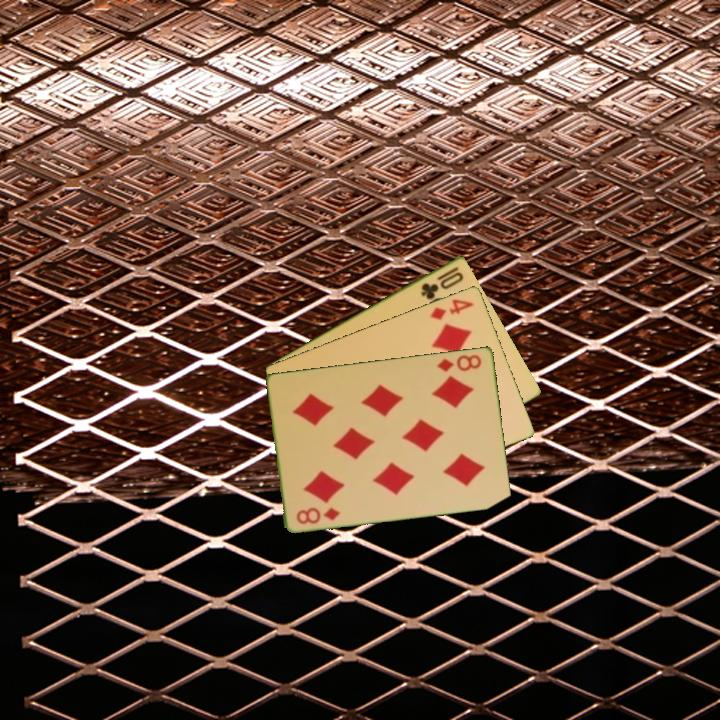10c: (417, 263, 467, 302)
4d: (426, 295, 477, 323)
8d: (433, 351, 484, 374), (293, 504, 343, 527)
